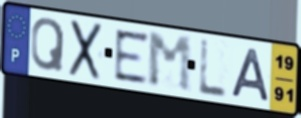A: (229, 46, 272, 105)
E: (113, 28, 150, 86)
L: (196, 38, 229, 100)
M: (146, 31, 194, 95)
Q: (29, 16, 67, 74)
X: (67, 18, 105, 82)
